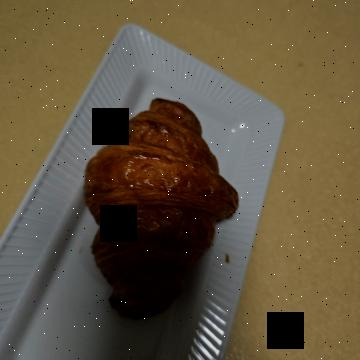croissant: (82, 123, 328, 301)
